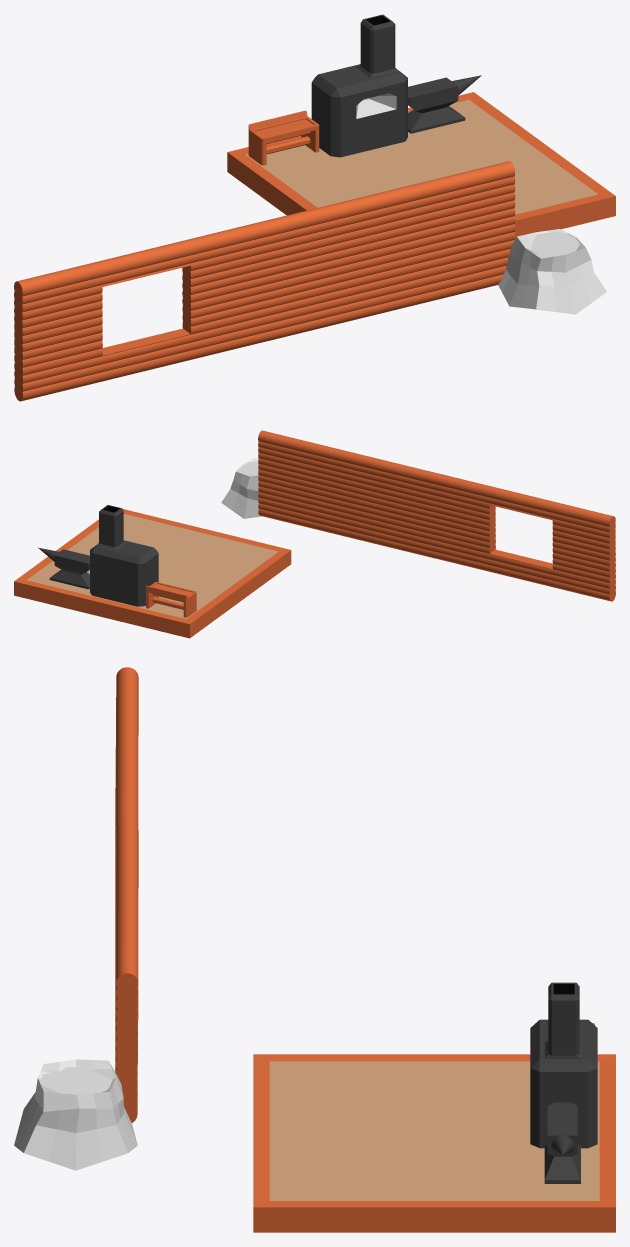
File: Tables.fbx
3 views of the same model, one above another, from view 1: azimuth 30°, elevation 25°; view 2: azimuth 150°, elevation 25°; view 3: azimuth 270°, elevation 25° (orthographic). The views are drawn at different scales.
Parts seen in each view (by area): view 1: Cylinder, Cylinder.001, Cube.002, Cube.001, Cube.003, Cone, Cube; view 2: Cylinder, Cube.002, Cylinder.001, Cube.001, Cube.003, Cone, Cube; view 3: Cube.002, Cube.003, Cube.001, Cylinder, Cylinder.001, Cone.
Part boxes in pixels (bbox=[...]): Cylinder: bbox=[264, 161, 515, 341]; Cylinder.001: bbox=[14, 221, 269, 401]; Cube.002: bbox=[227, 92, 615, 239]; Cube.001: bbox=[311, 14, 407, 157]; Cube.003: bbox=[498, 229, 606, 314]; Cone: bbox=[408, 75, 481, 133]; Cube: bbox=[248, 110, 319, 165]; Cylinder: bbox=[258, 430, 436, 558]; Cube.002: bbox=[14, 509, 291, 638]; Cylinder.001: bbox=[434, 473, 615, 601]; Cube.001: bbox=[90, 505, 158, 606]; Cube.003: bbox=[221, 458, 261, 518]; Cone: bbox=[38, 547, 89, 589]; Cube: bbox=[146, 582, 196, 617]; Cube.002: bbox=[253, 1054, 615, 1232]; Cube.003: bbox=[14, 1059, 137, 1170]; Cube.001: bbox=[530, 982, 597, 1148]; Cylinder: bbox=[115, 820, 138, 1122]; Cylinder.001: bbox=[115, 667, 138, 940]; Cone: bbox=[544, 1102, 580, 1183].
Size of the model in its own units: 5252 by 1120 by 3321.
